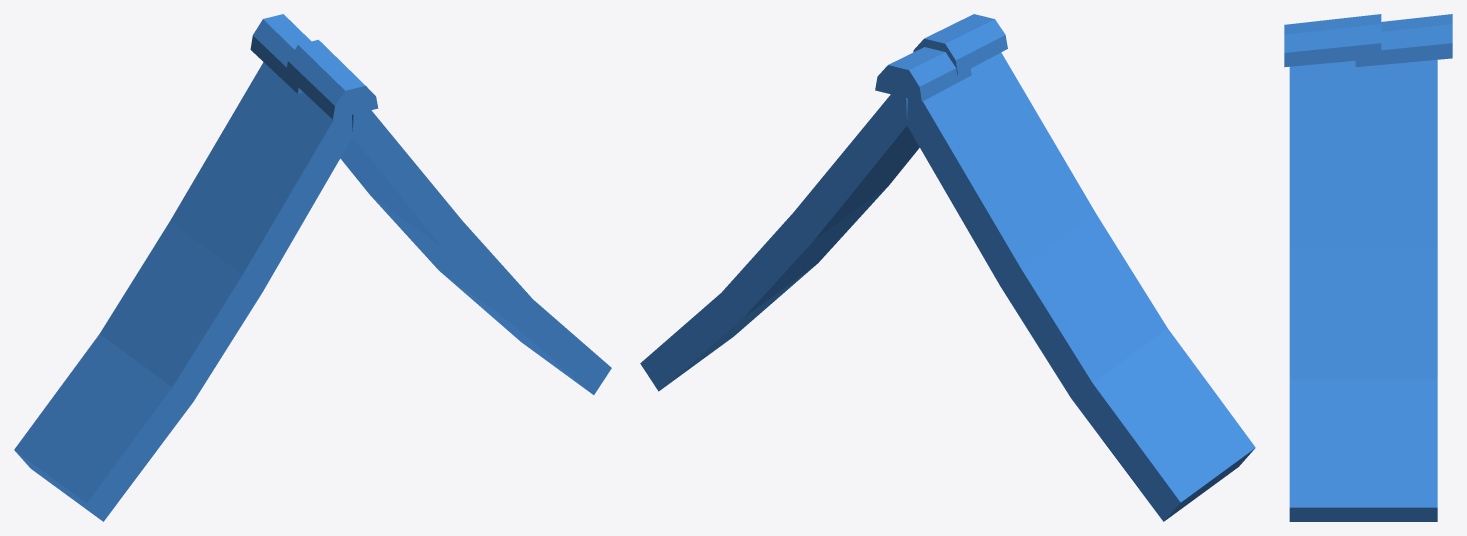
File: Collision_Roof_Modular_RoundTiles_6_L.fbx
3 views of the same model, side by side, from view 1: azimuth 30°, elevation 25°; view 2: azimuth 150°, elevation 25°; view 3: azimuth 270°, elevation 25° (orthographic). The views are drawn at different scales.
Visible parts, largest first — view 1: UCX_Roof_Modular_RoundTiles_6_L_01; view 2: UCX_Roof_Modular_RoundTiles_6_L_01; view 3: UCX_Roof_Modular_RoundTiles_6_L_01.
Boxes of the visible parts, <box> form: UCX_Roof_Modular_RoundTiles_6_L_01: <box>14,14,611,521</box>; UCX_Roof_Modular_RoundTiles_6_L_01: <box>640,14,1255,521</box>; UCX_Roof_Modular_RoundTiles_6_L_01: <box>1284,14,1452,521</box>.
Bounding box in the file's own units: 825 × 579 × 226.
